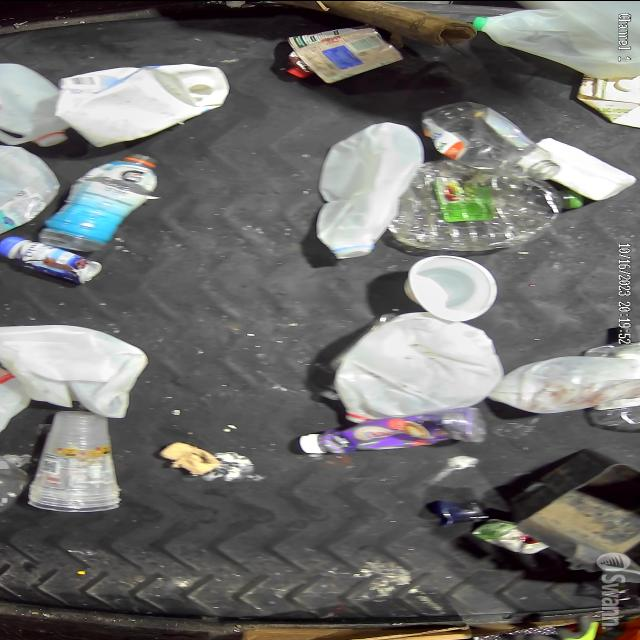can: (285, 18, 407, 86)
milk_jug: (334, 316, 512, 426), (314, 122, 429, 260), (0, 317, 153, 411), (468, 2, 638, 84), (64, 62, 230, 134), (497, 350, 640, 410), (0, 61, 76, 153), (0, 146, 68, 237)
plastic_bottle: (393, 162, 585, 254)
